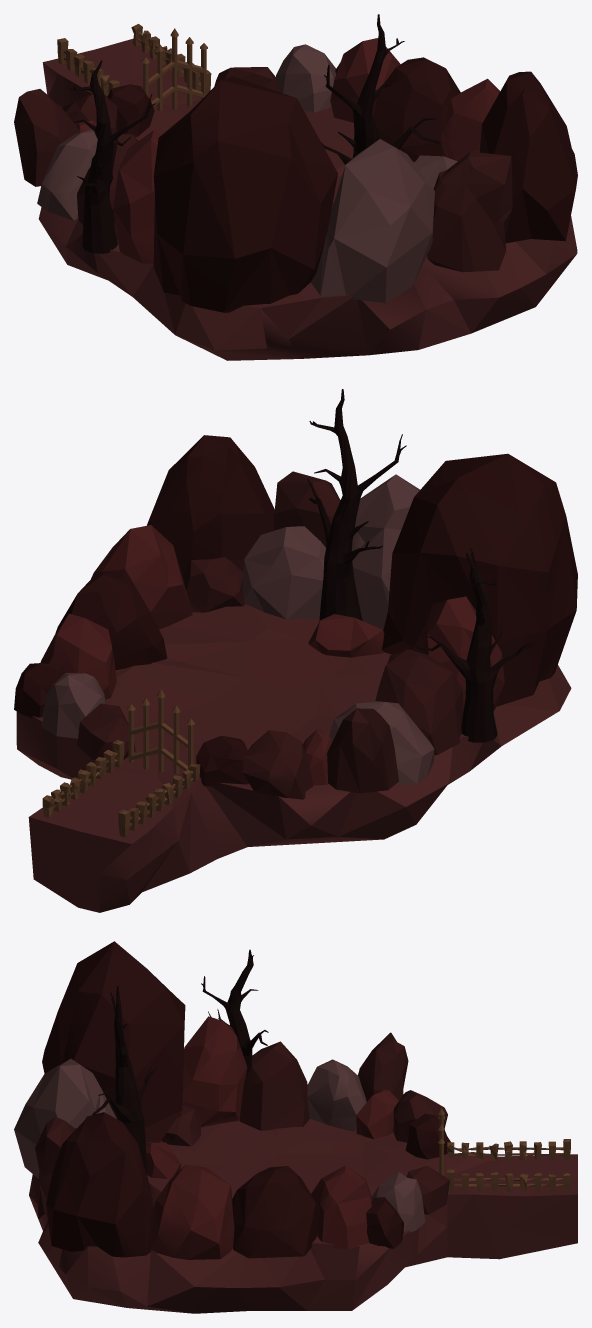
File: dungeon_fire.fbx
3 views of the same model, one above another, from view 1: azimuth 30°, elevation 25°; view 2: azimuth 150°, elevation 25°; view 3: azimuth 270°, elevation 25° (orthographic). The views are drawn at different scales.
Visible parts, largest first — view 1: land1, rock1, rock4, rock7, rock8, rock11, rock2, tree2, rock18, rock14, tree1, rock10 (+10 smaller); view 2: land1, rock1, rock7, rock6, tree1, rock4, rock13, rock10, rock11, rock18, tree2, rock20 (+14 smaller); view 3: land1, rock1, rock7, rock11, rock10, rock2, rock4, rock13, rock12, rock14, tree1, rock18 (+12 smaller).
Part boxes in pixels (x1,y1,x2,y2): land1: [38, 39, 577, 360]; rock1: [153, 76, 337, 312]; rock4: [310, 139, 434, 303]; rock7: [479, 71, 577, 243]; rock8: [427, 151, 512, 272]; rock11: [373, 57, 460, 161]; rock2: [113, 130, 161, 263]; tree2: [68, 60, 155, 253]; rock18: [14, 89, 80, 186]; rock14: [37, 129, 97, 220]; tree1: [320, 14, 439, 164]; rock10: [441, 78, 500, 161]; land1: [16, 604, 571, 912]; rock1: [381, 453, 577, 706]; rock7: [147, 435, 274, 577]; rock6: [243, 526, 325, 619]; tree1: [307, 389, 406, 621]; rock4: [351, 474, 419, 629]; rock13: [375, 649, 463, 755]; rock10: [91, 525, 192, 629]; rock11: [55, 575, 167, 670]; rock18: [327, 708, 398, 793]; tree2: [416, 547, 536, 742]; rock20: [242, 730, 313, 799]; land1: [29, 1118, 577, 1313]; rock1: [42, 941, 185, 1142]; rock7: [46, 1112, 154, 1257]; rock11: [232, 1166, 319, 1258]; rock10: [150, 1164, 234, 1259]; rock2: [182, 1016, 246, 1127]; rock4: [14, 1058, 116, 1178]; rock13: [239, 1041, 309, 1130]; rock12: [311, 1165, 372, 1249]; rock14: [307, 1059, 366, 1131]; tree1: [92, 985, 157, 1173]; rock18: [358, 1032, 408, 1101].
Size of the model in its own units: 23.91 by 15.9 by 31.39.
